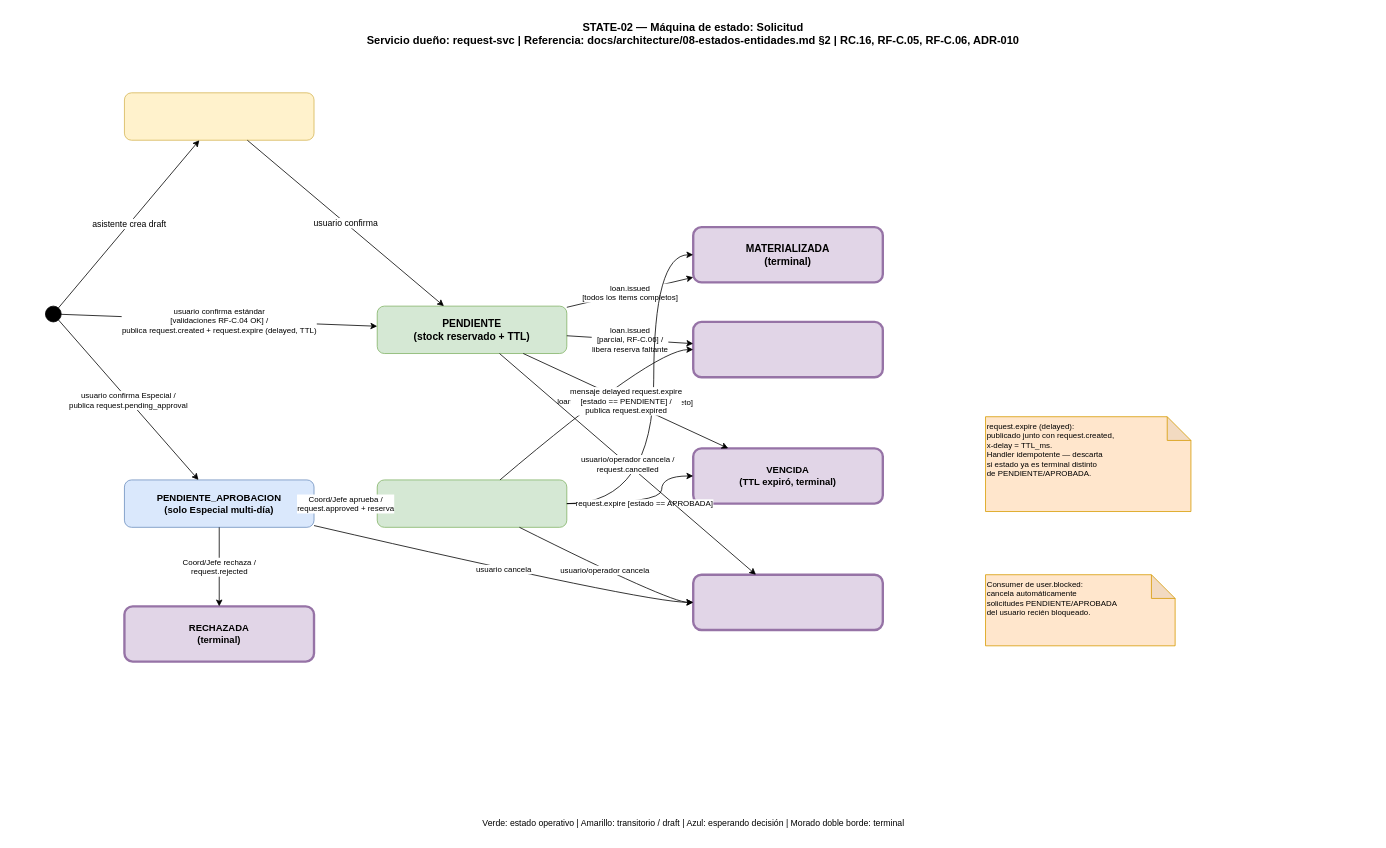
The diagram is 1386 pixels wide and 848 high, and some of its shapes have lost their labels. Each missing label, with the box of its shape:
APROBADA (Especial con stock reservado): (376, 479, 567, 527)
BORRADOR (asistente, auto-caduca 24 h): (124, 92, 314, 140)
CANCELADA (terminal): (692, 573, 884, 631)
MATERIALIZADA_PARCIAL (terminal, RF-C.06): (692, 320, 884, 378)
